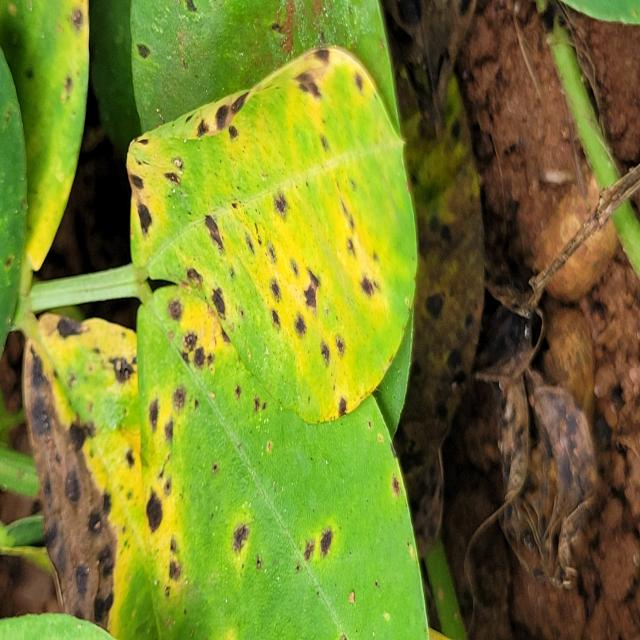Ground nut_tikka leaf spot: (128, 44, 417, 425), (137, 282, 431, 640)
